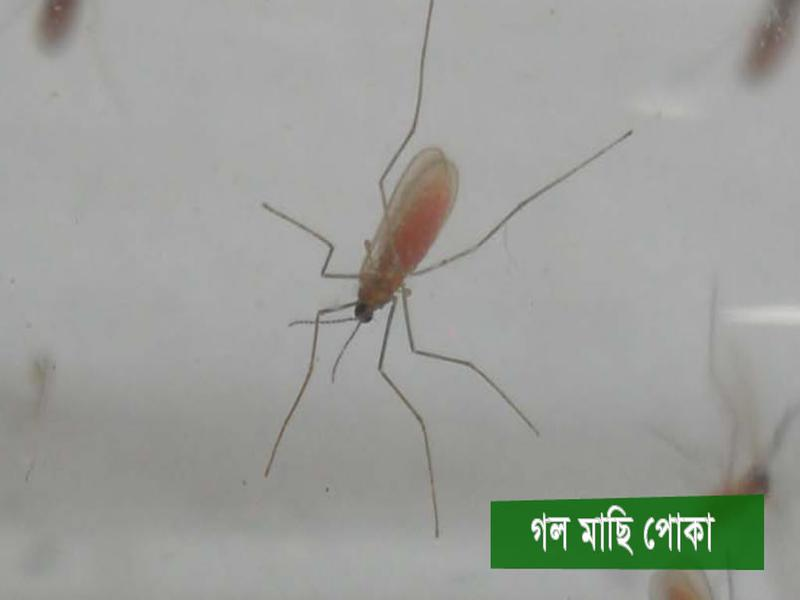Gall_midge: (270, 141, 527, 351)
